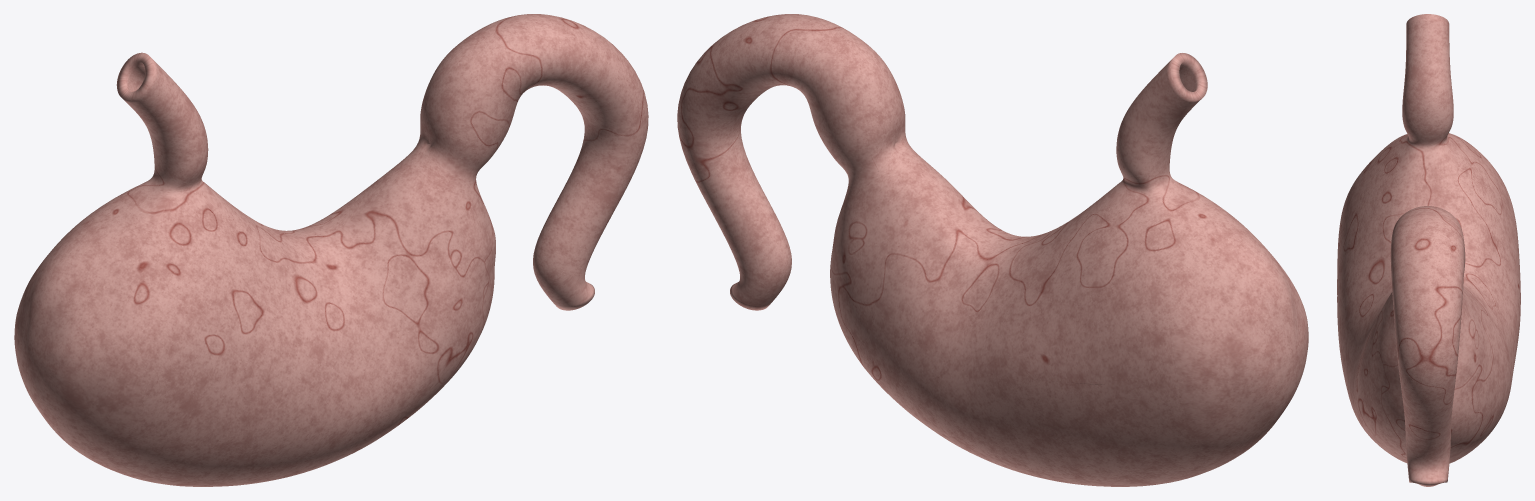
The model's file is stomach.glb.
3 renders of one model, left to right at view 1: azimuth 30°, elevation 25°; view 2: azimuth 150°, elevation 25°; view 3: azimuth 270°, elevation 25°, orthographic. The views are drawn at different scales.
Parts seen in each view (by area): view 1: stomach; view 2: stomach; view 3: stomach.
Part boxes in pixels (x1,y1,x2,y2): stomach: [14, 14, 648, 486]; stomach: [677, 14, 1308, 486]; stomach: [1337, 14, 1520, 486].
Bounding box in the file's own units: 0.2536 × 0.1763 × 0.0777.
Materials: 1 (1 with a texture image).
